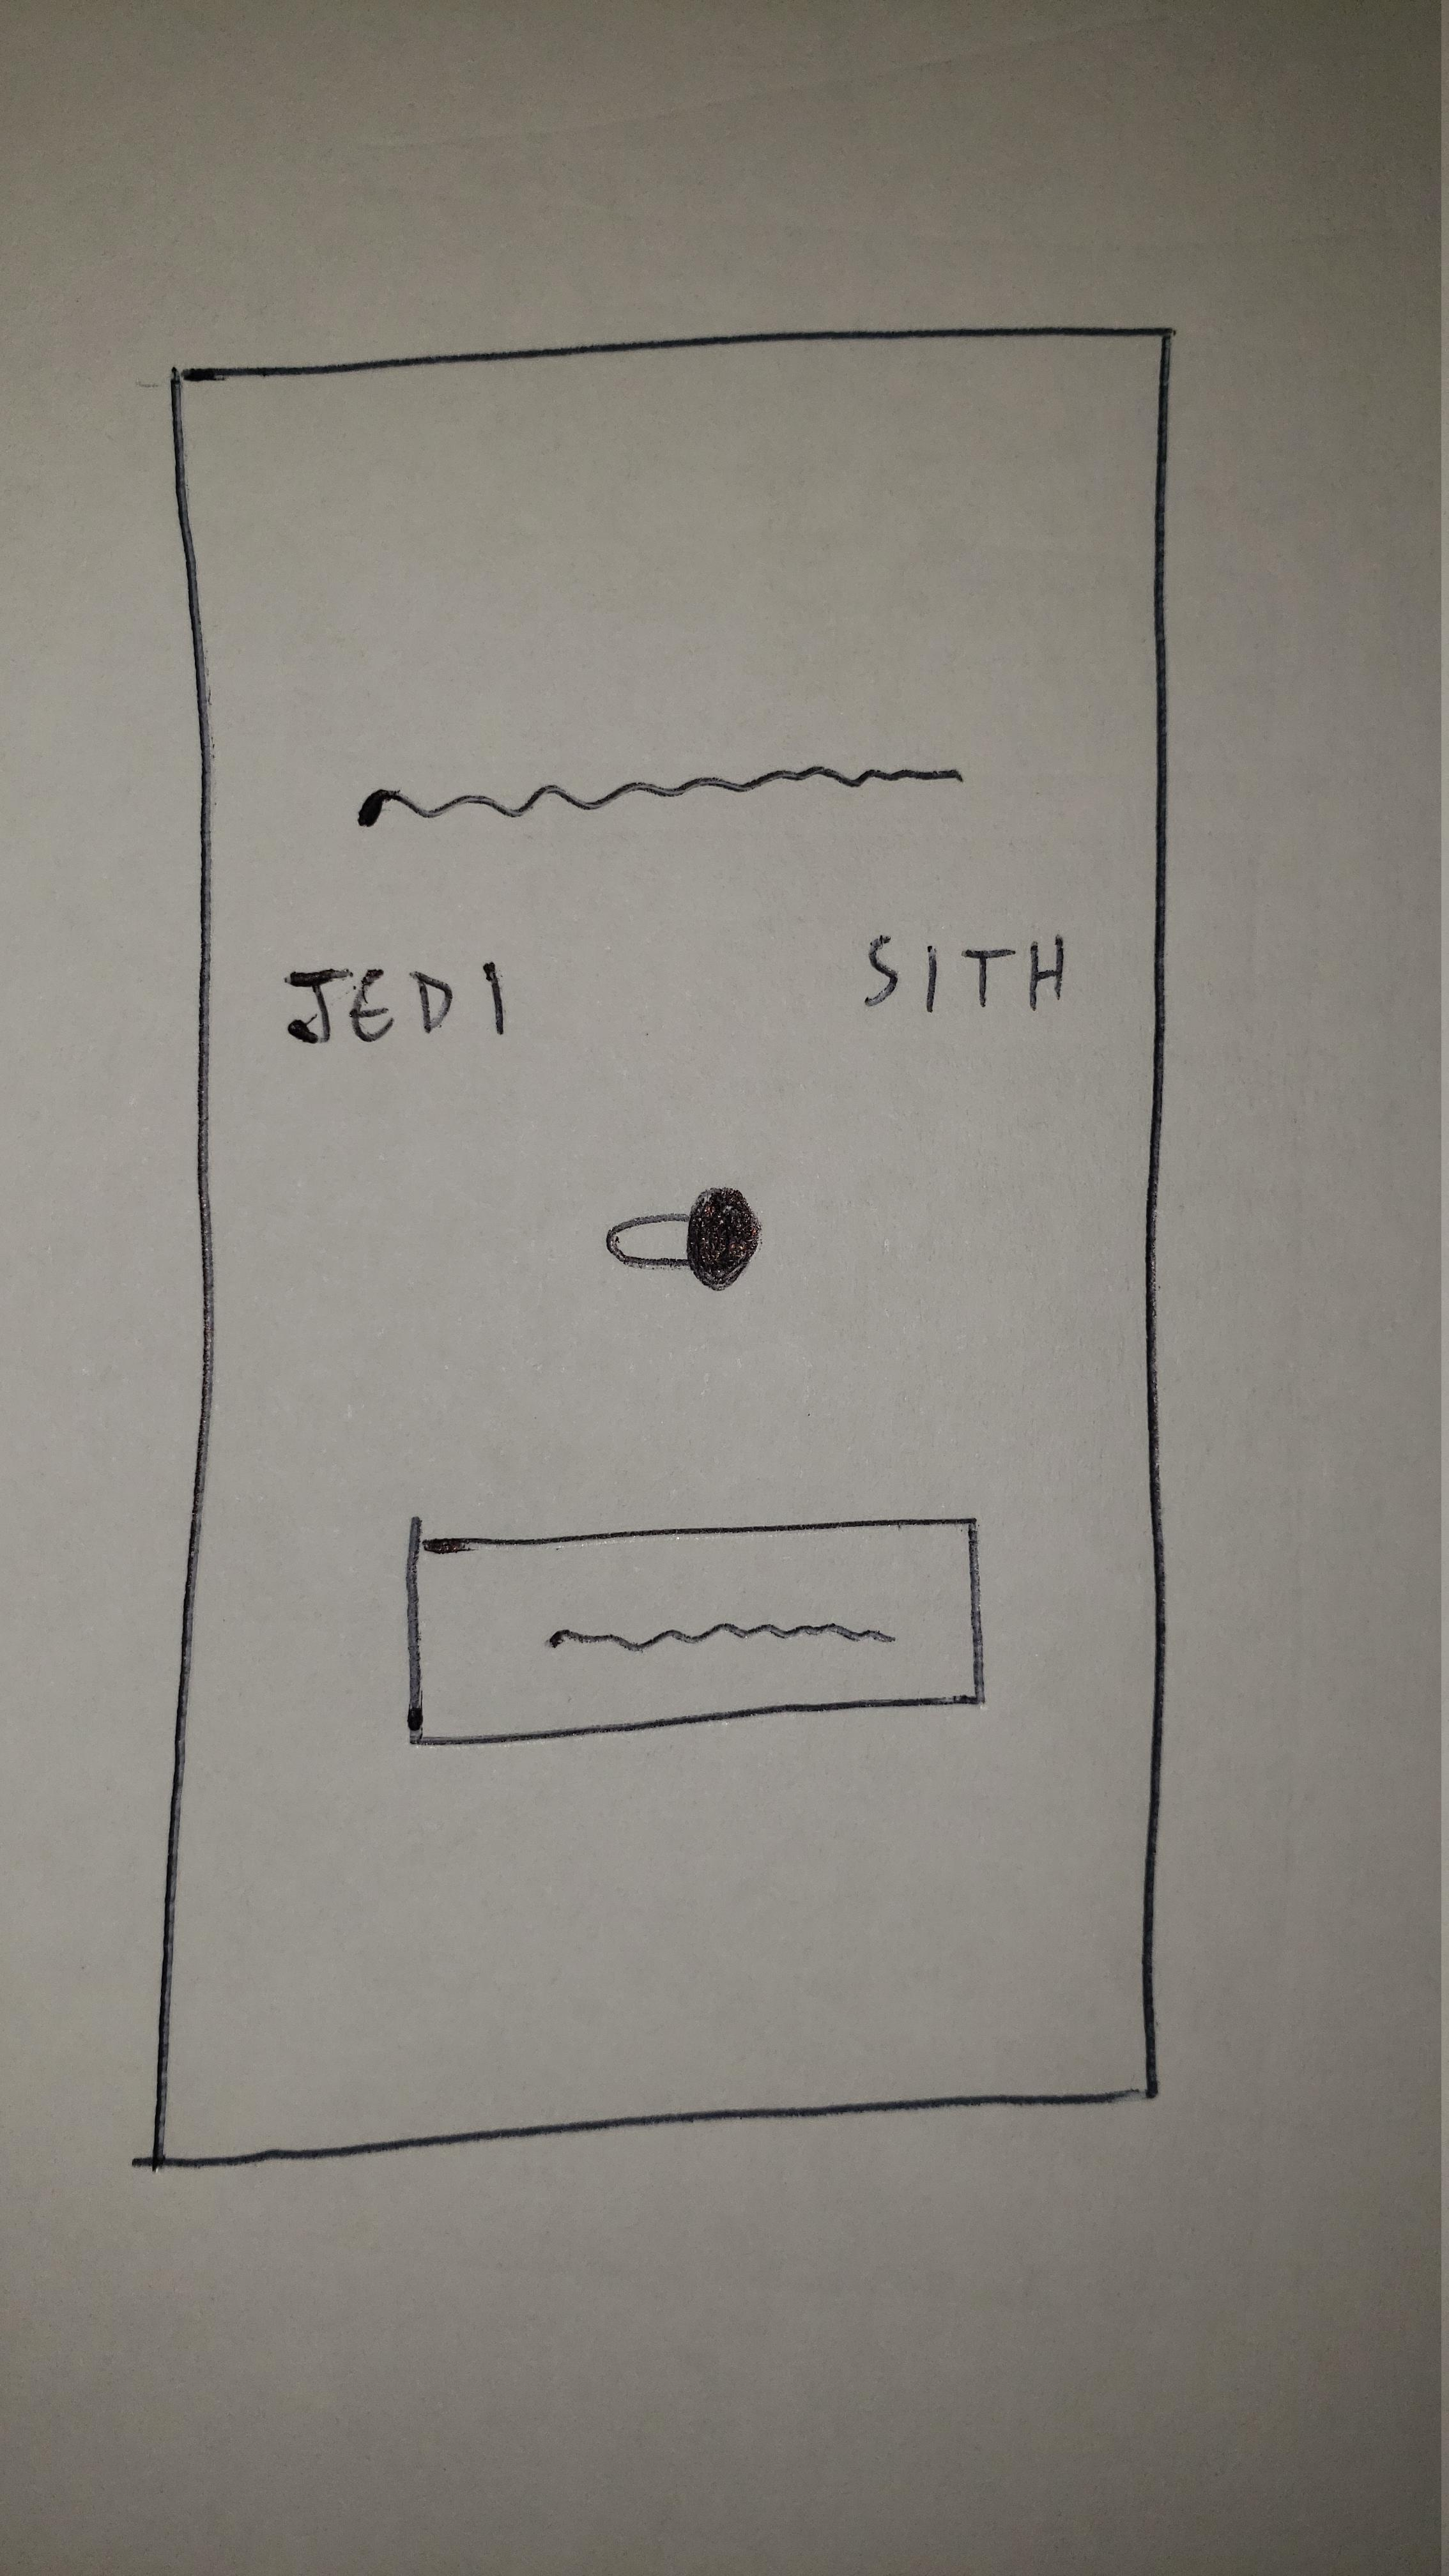Button: (403, 1513, 987, 1748)
Label: (356, 757, 970, 830), (280, 959, 510, 1051), (862, 932, 1070, 1016)
Screen: (147, 324, 1171, 2169)
Switch: (598, 1184, 766, 1293)
